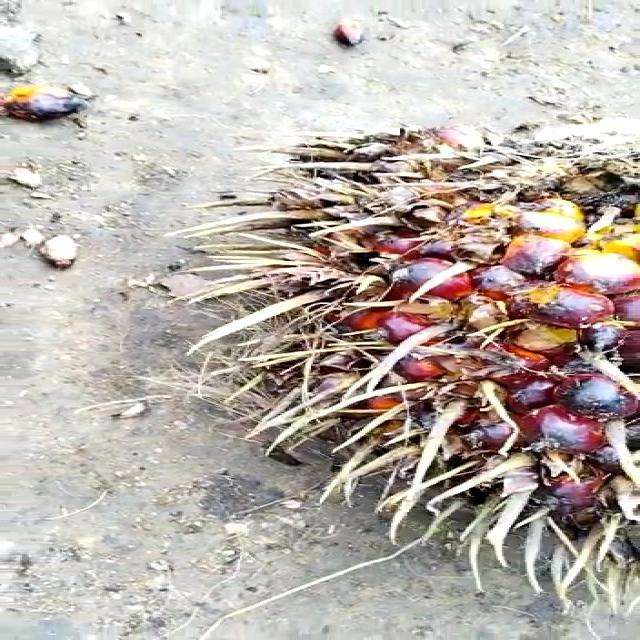palm oil: (194, 123, 640, 576)
